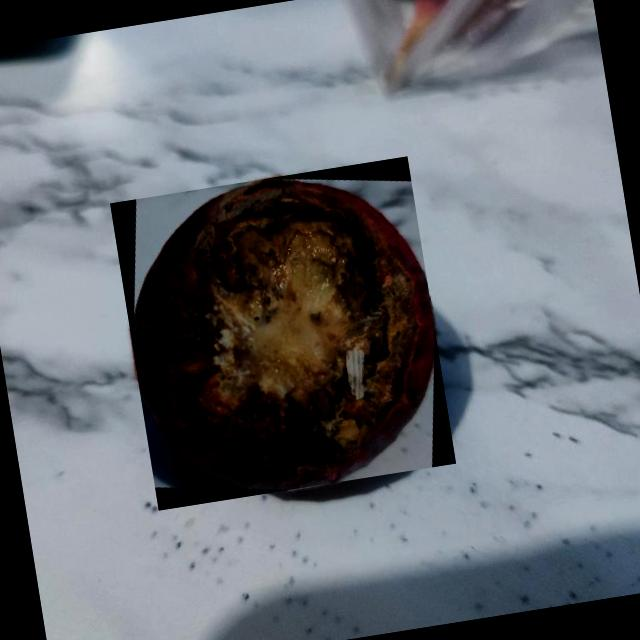rotten: (132, 178, 434, 489)
